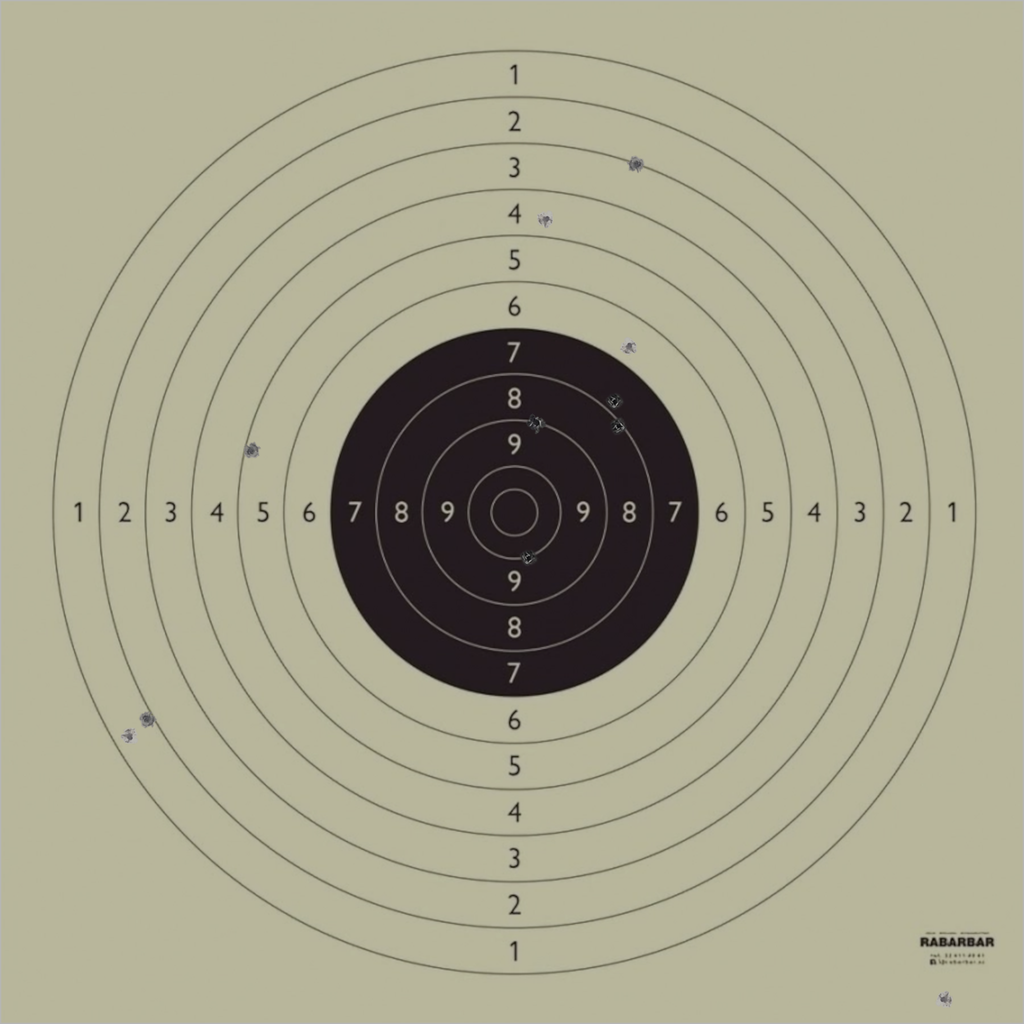0 punktow: (935, 990, 953, 1009)
1 punkt: (120, 727, 139, 746)
10 punktow: (519, 549, 538, 568)
2 punkty: (138, 710, 156, 728)
3 punkty: (627, 155, 646, 174)
4 punkty: (537, 210, 555, 229)
5 punktow: (242, 442, 260, 460)
6 punktow: (620, 337, 639, 356)
7 punktow: (606, 393, 624, 411)
8 punktow: (610, 417, 628, 435)
9 punktow: (527, 413, 545, 432)
